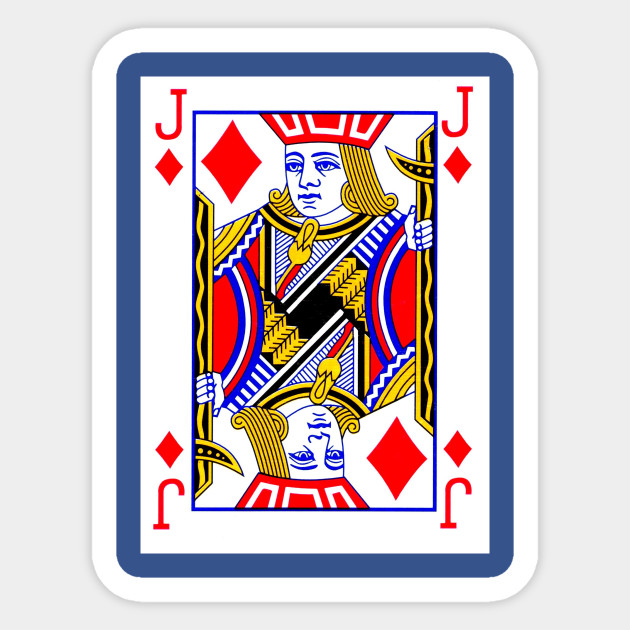jack of diamonds: (138, 76, 486, 554)
